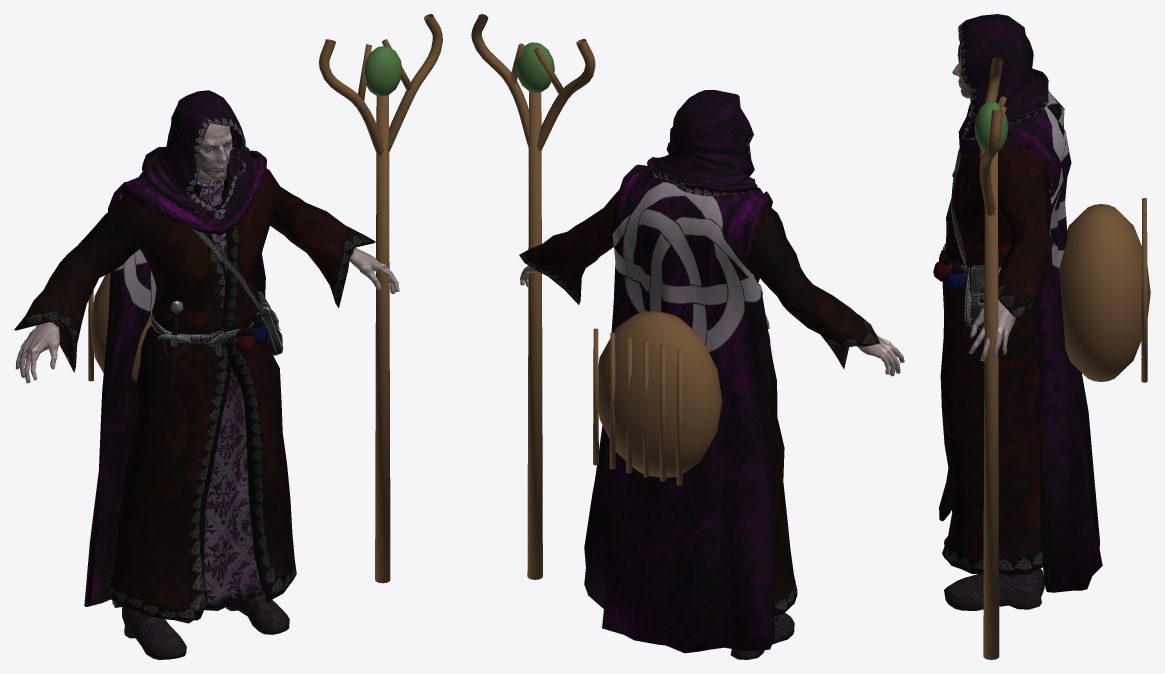
The model's file is actor-herbalist.glb.
3 renders of one model, left to right at view 1: azimuth 30°, elevation 25°; view 2: azimuth 150°, elevation 25°; view 3: azimuth 270°, elevation 25°, orthographic. The views are drawn at different scales.
Parts seen in each view (by area): view 1: mage · posed; view 2: mage · posed; view 3: mage · posed.
Boxes of the visible parts, x1,y1,x2,y2 form: mage · posed: (14, 14, 442, 659); mage · posed: (471, 14, 904, 659); mage · posed: (933, 14, 1150, 659).
Bounding box in the file's own units: 1.64 × 2.09 × 0.7044.
Materials: 3 (1 with a texture image).
